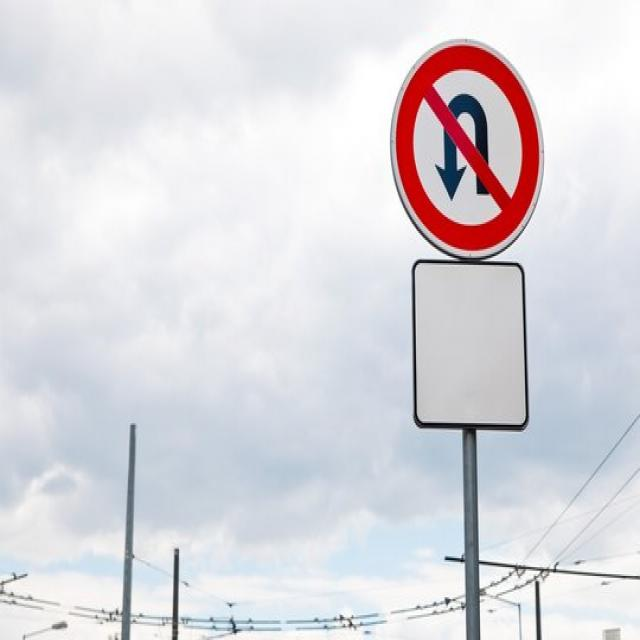no u turn: (389, 33, 551, 267)
